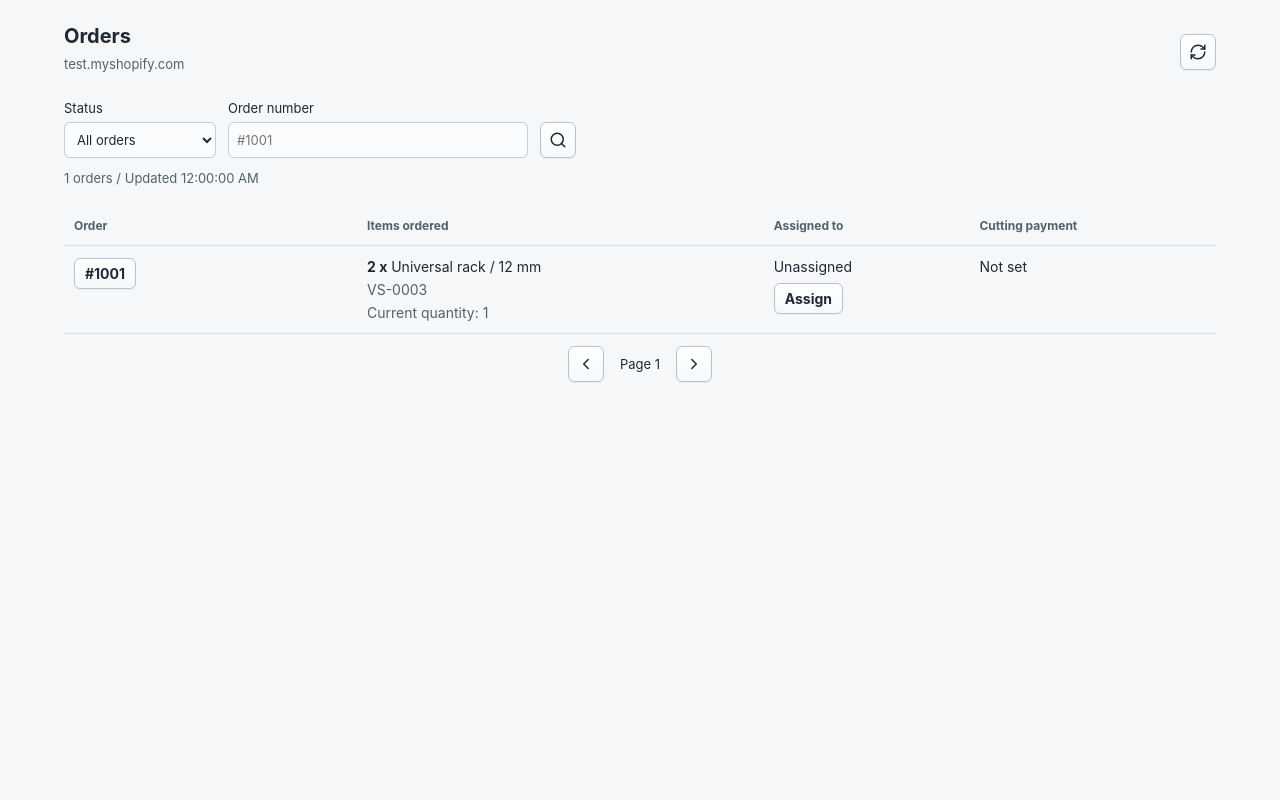
Test: Shopify orders page › lets the admin assign a fixed fee in pence, then unassign without retaining the fee
The image size is (1280, 800).
Step 1. Click the button with aria-label "Assign #1001" → (808, 298), box x1=774 y1=283 x2=843 y2=314
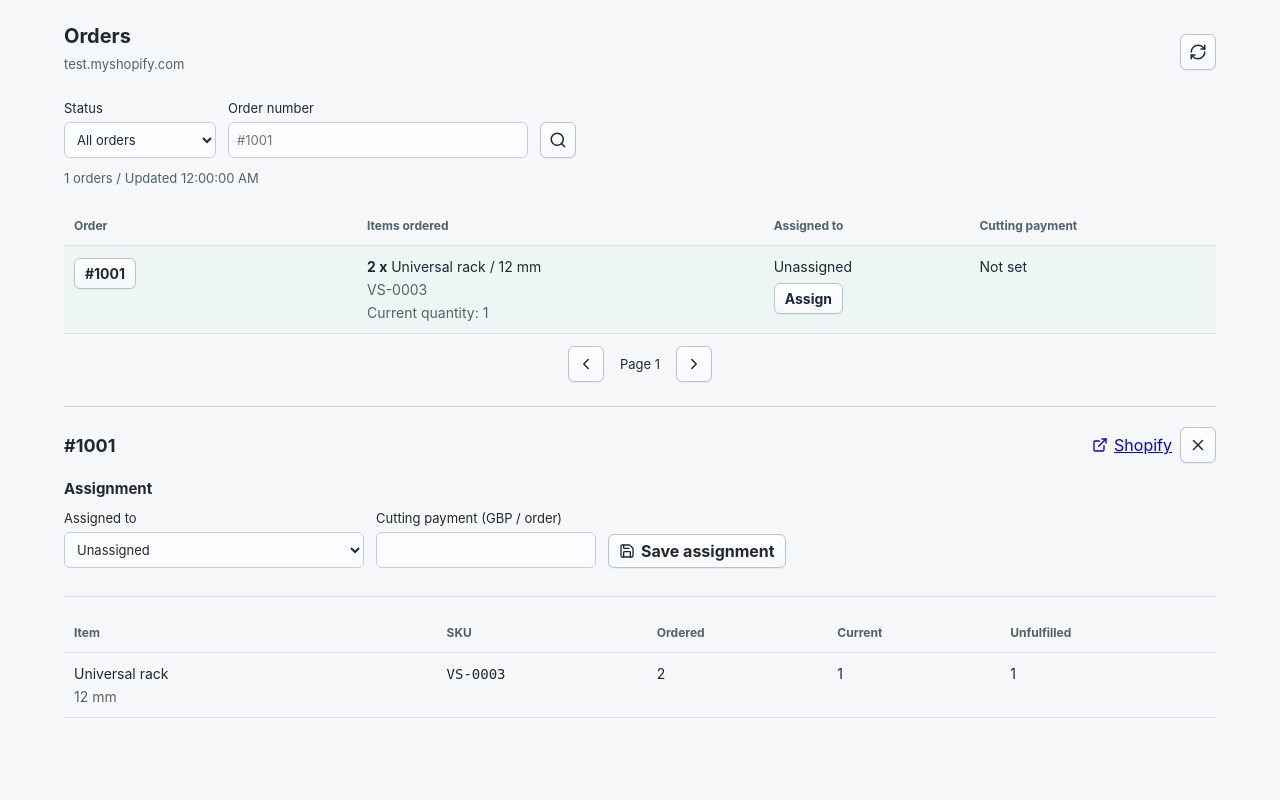
Step 2. Select "bob@example.com" in the dropdown labelled "Assigned to" → (214, 550), box x1=64 y1=532 x2=364 y2=568
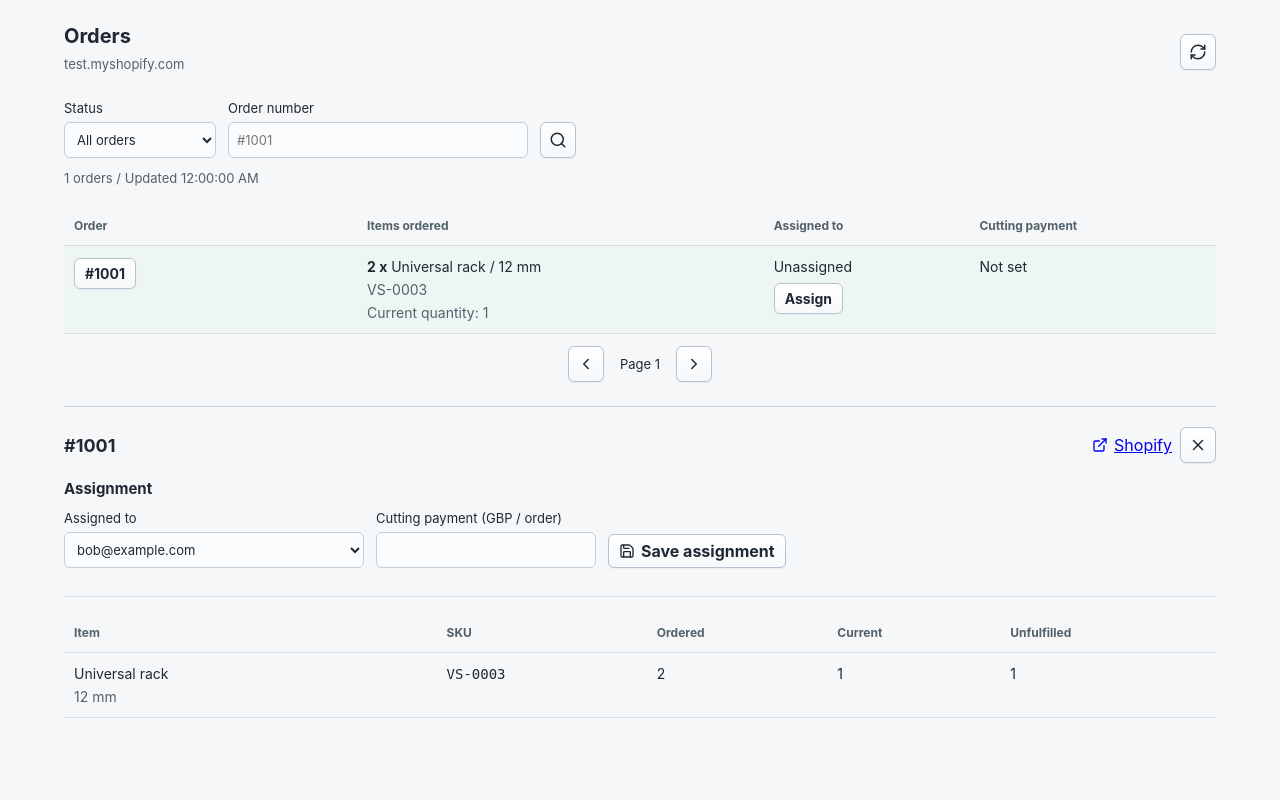
Step 3. Type "45.67" into the number field labelled "Cutting payment (GBP / order)" → (486, 550), box x1=376 y1=532 x2=596 y2=568
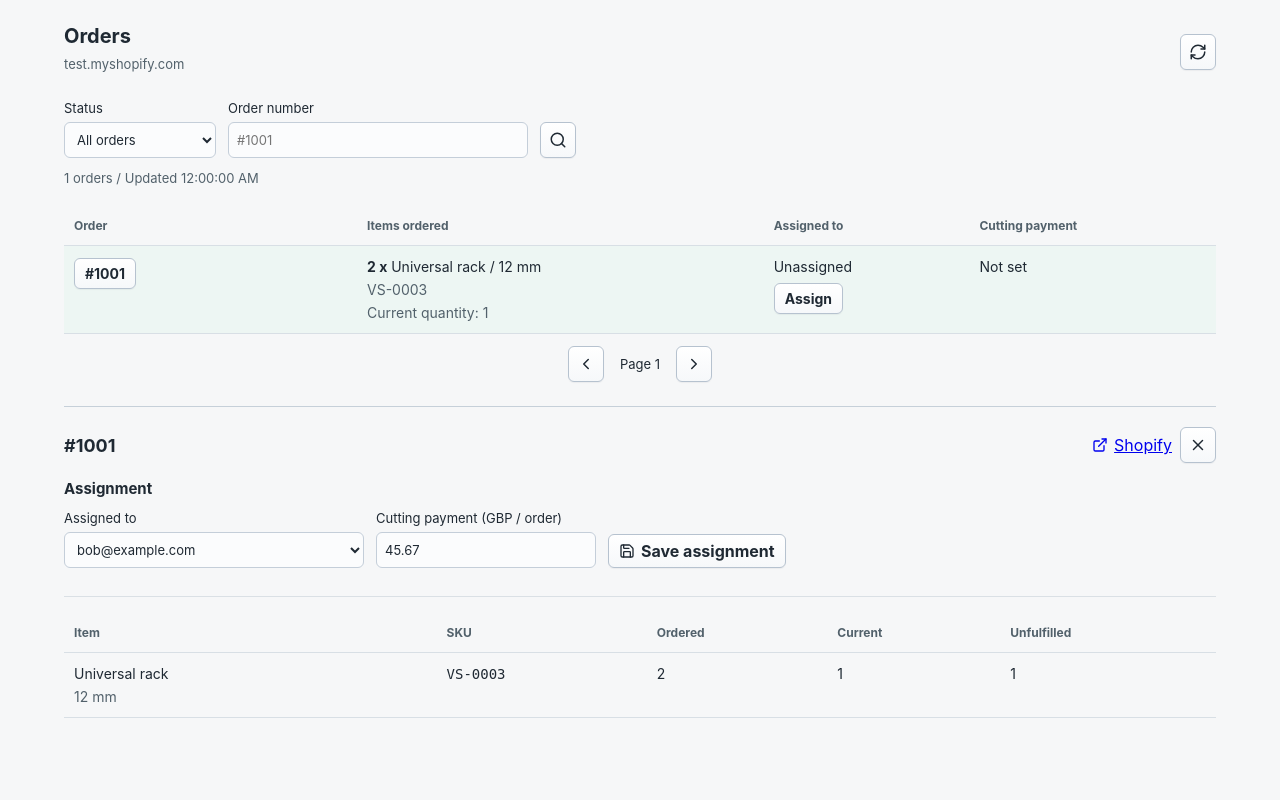
Step 4. Click the button "Save assignment" → (697, 551), box x1=608 y1=534 x2=786 y2=568
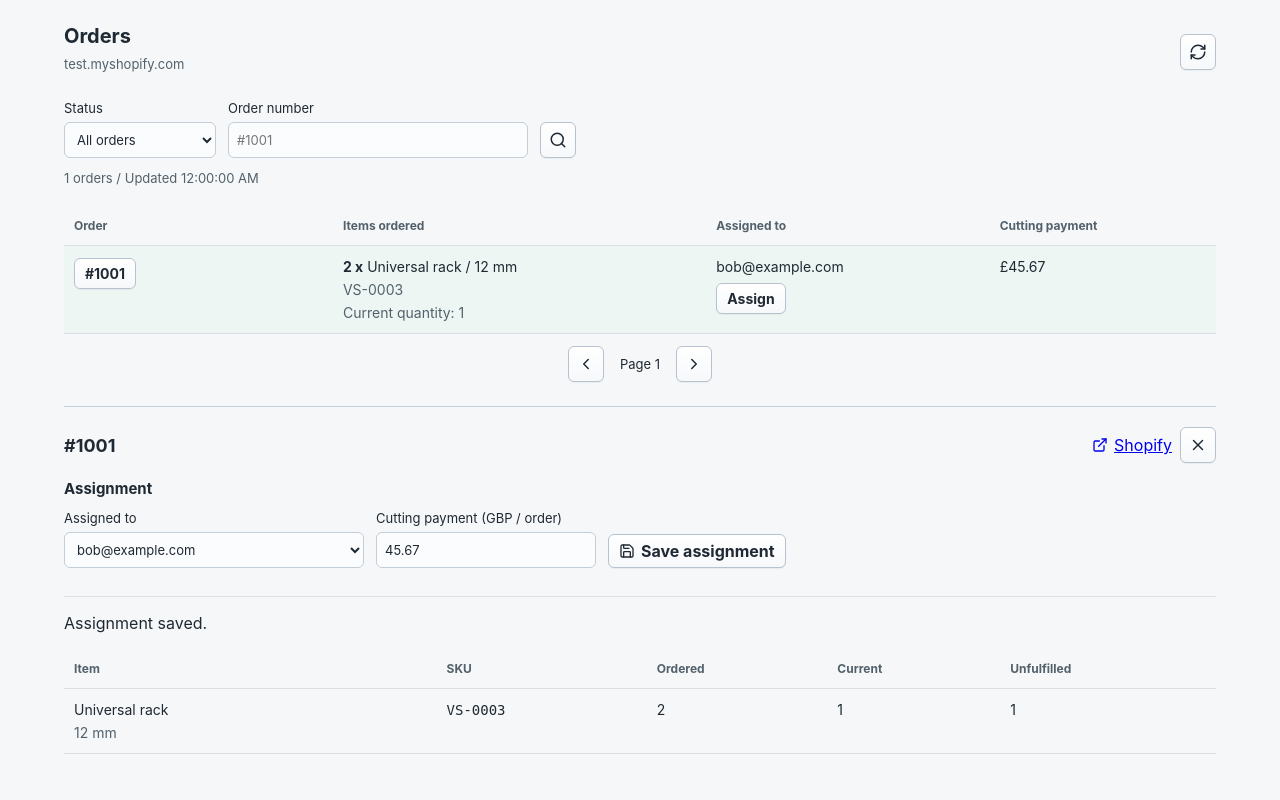
Result: the button "Save assignment" is enabled at x1=608 y1=534 x2=786 y2=568
Result: the text "Assignment saved." is shown at x1=64 y1=613 x2=207 y2=633
Result: the text "£45.67" is shown at x1=990 y1=246 x2=1216 y2=334
Step 5. Select "Unassigned" in the dropdown labelled "Assigned to" → (214, 550), box x1=64 y1=532 x2=364 y2=568
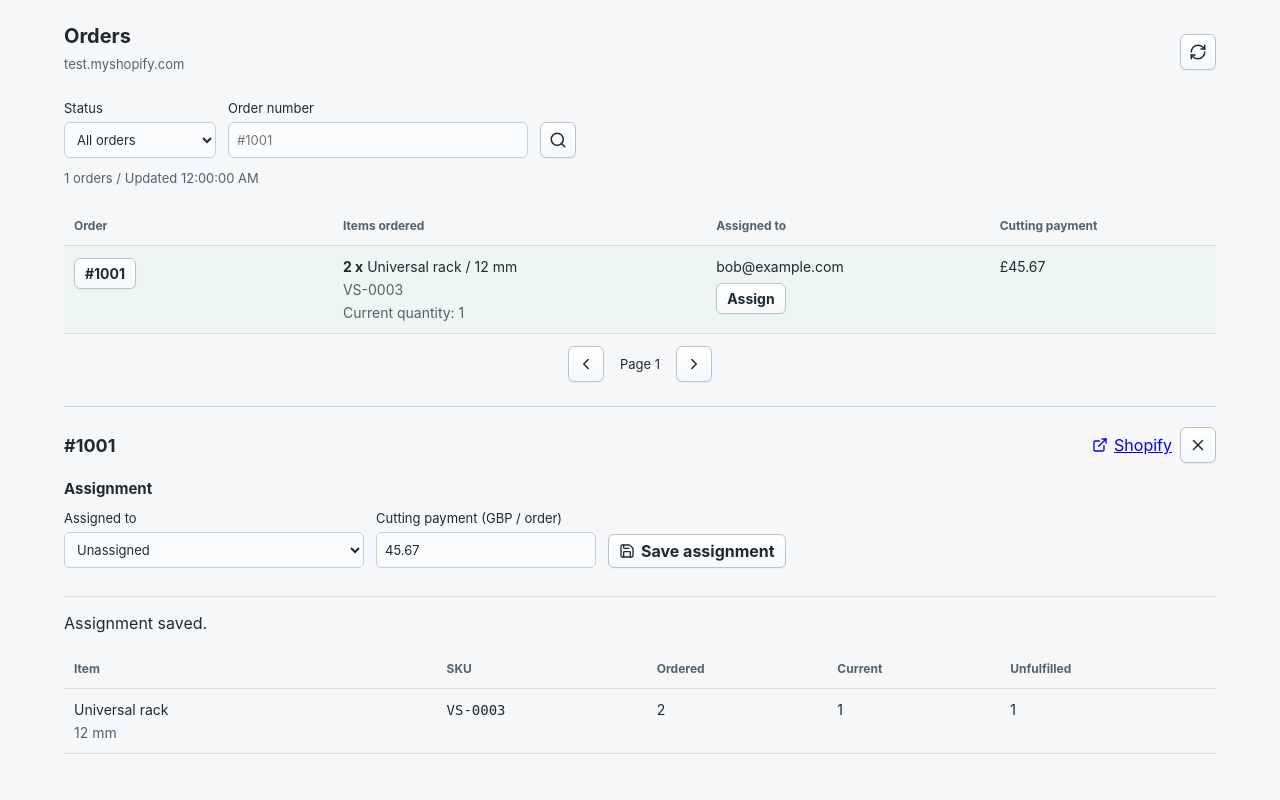
Step 6. Click the button "Save assignment" → (697, 551), box x1=608 y1=534 x2=786 y2=568
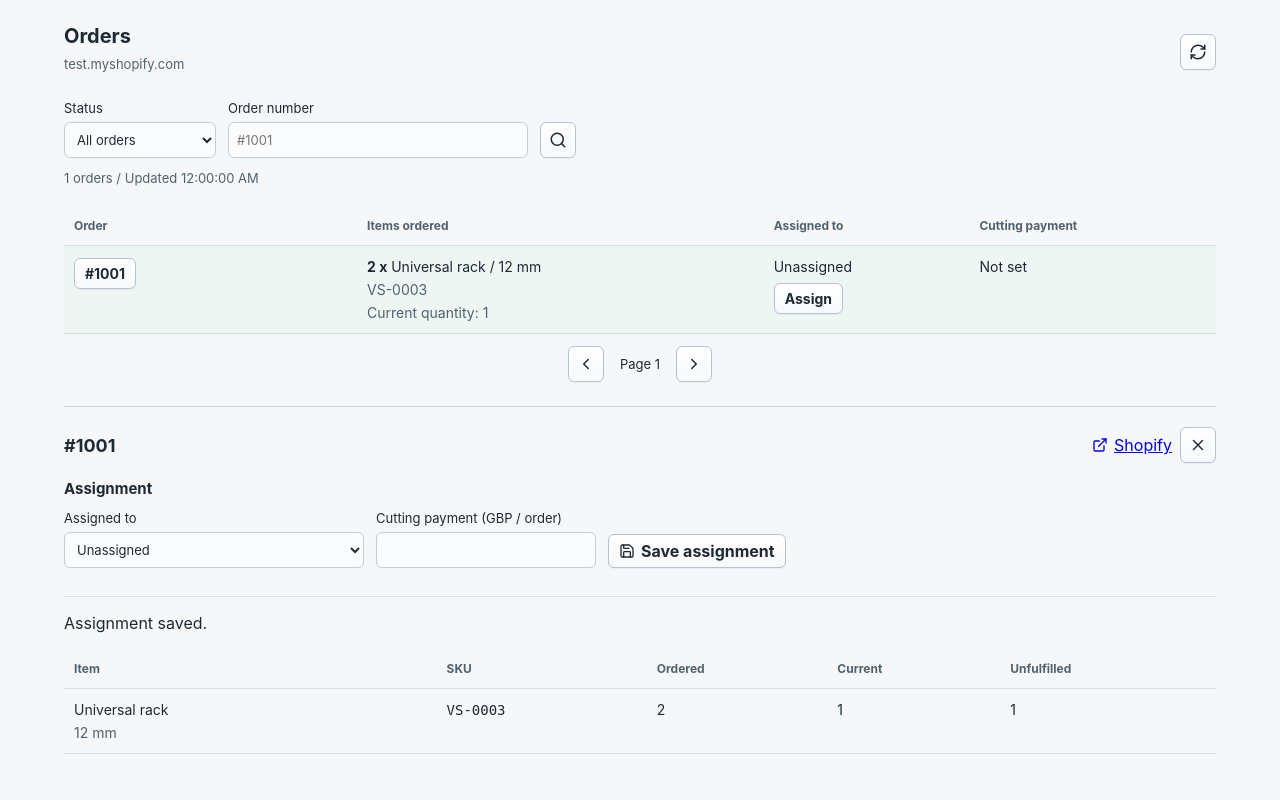
Result: the text "£45.67" is gone
